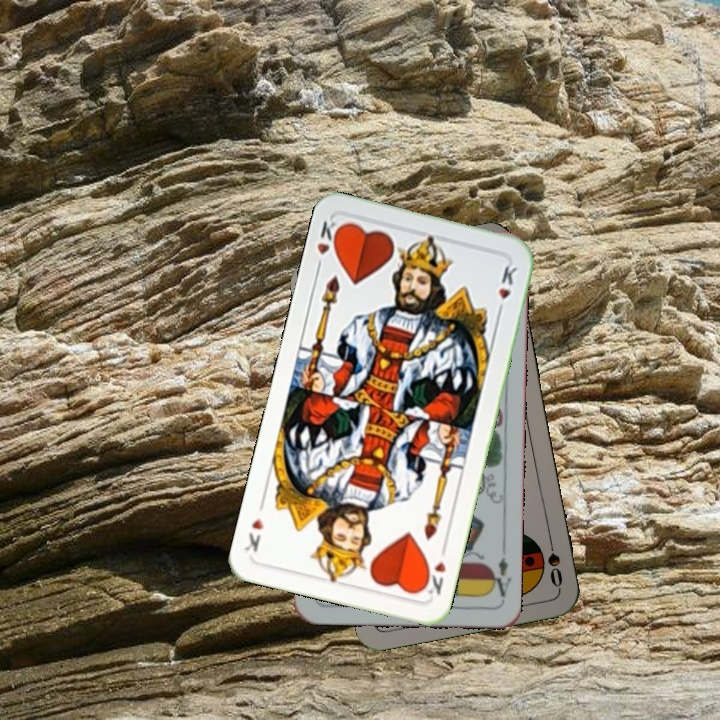EA: (486, 543, 513, 599)
HK: (312, 215, 345, 274), (419, 542, 450, 598)
SO: (543, 531, 566, 591)
